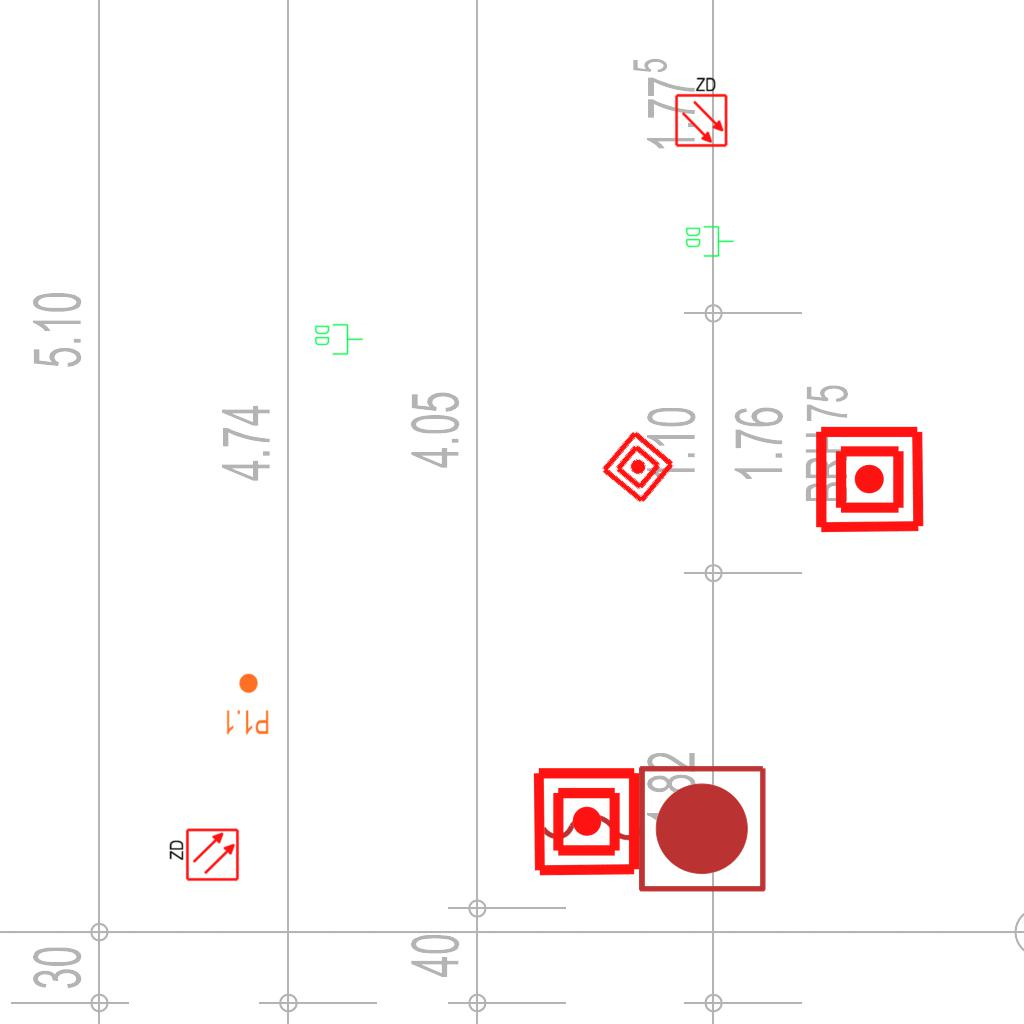Datenanschluss_zweifach: (684, 224, 735, 258), (313, 322, 364, 356)
Downlight_LED_Einbauleuchten_Flur: (224, 672, 270, 736)
NAM-Nichtautomatischer_Melder: (813, 423, 926, 536), (530, 765, 643, 878), (598, 427, 678, 507)
ZD_Melder_in_Zwischendecke_mit_Revisionsoeffnung_mind_40_x_40_cm: (672, 74, 729, 148), (166, 827, 240, 884)
Zugtaster: (530, 755, 774, 899)
